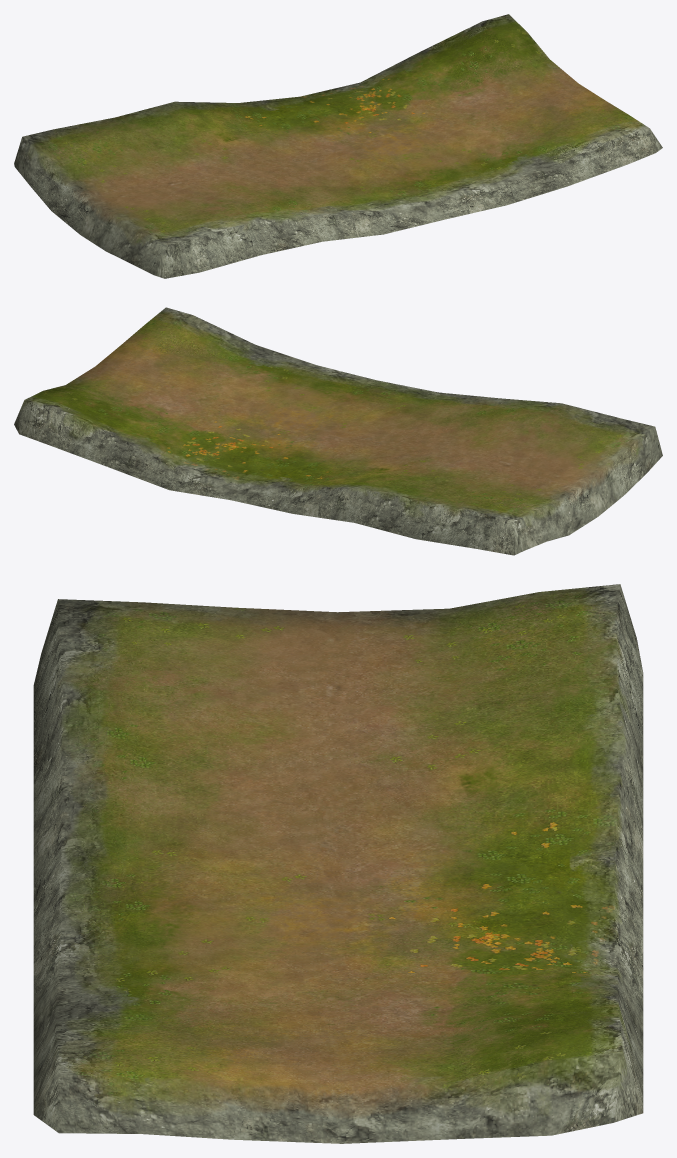
File: ground_mobile3.FBX
The picture shows the model from 3 angles, top to bottom: view 1: azimuth 30°, elevation 25°; view 2: azimuth 150°, elevation 25°; view 3: azimuth 270°, elevation 25°; orthographic projection. The views are drawn at different scales.
Parts seen in each view (by area): view 1: Plane004; view 2: Plane004; view 3: Plane004.
Boxes of the visible parts, x1,y1,x2,y2 form: Plane004: (14,14,662,278); Plane004: (14,307,662,555); Plane004: (33,584,643,1143).
Bounding box in the file's own units: 143 × 13.1 × 73.15.
